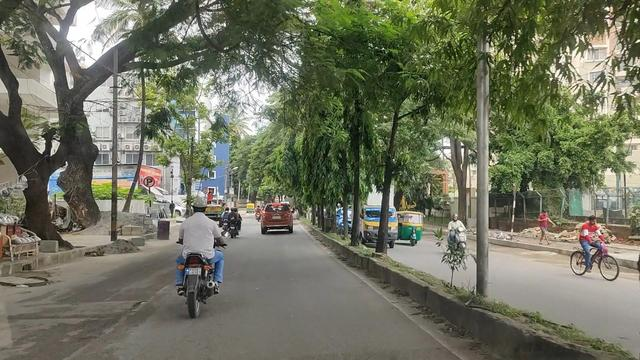LMV: (181, 201, 221, 314), (262, 202, 291, 232)
RoadDamages: (58, 294, 147, 339)
